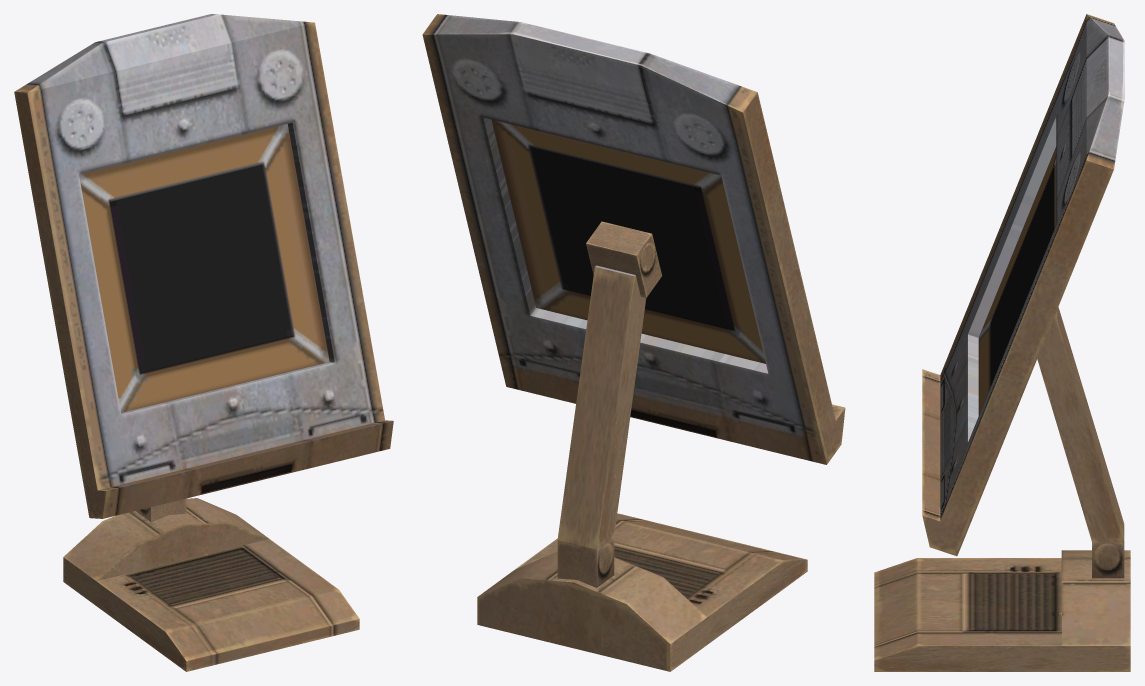
File: eqp_diagnostic_screen_l0.fbx
The picture shows the model from 3 angles, left to right: view 1: azimuth 30°, elevation 25°; view 2: azimuth 150°, elevation 25°; view 3: azimuth 270°, elevation 25°; orthographic projection. The views are drawn at different scales.
Visible parts, largest first — view 1: mesh_node; view 2: mesh_node; view 3: mesh_node.
Part boxes in pixels (left/top/right/bottom): mesh_node: left=14, top=14, right=393, bottom=671; mesh_node: left=422, top=14, right=845, bottom=671; mesh_node: left=874, top=14, right=1130, bottom=671.
Bounding box in the file's own units: 0.2262 × 0.4059 × 0.1676.
2 materials, 2 textured.
